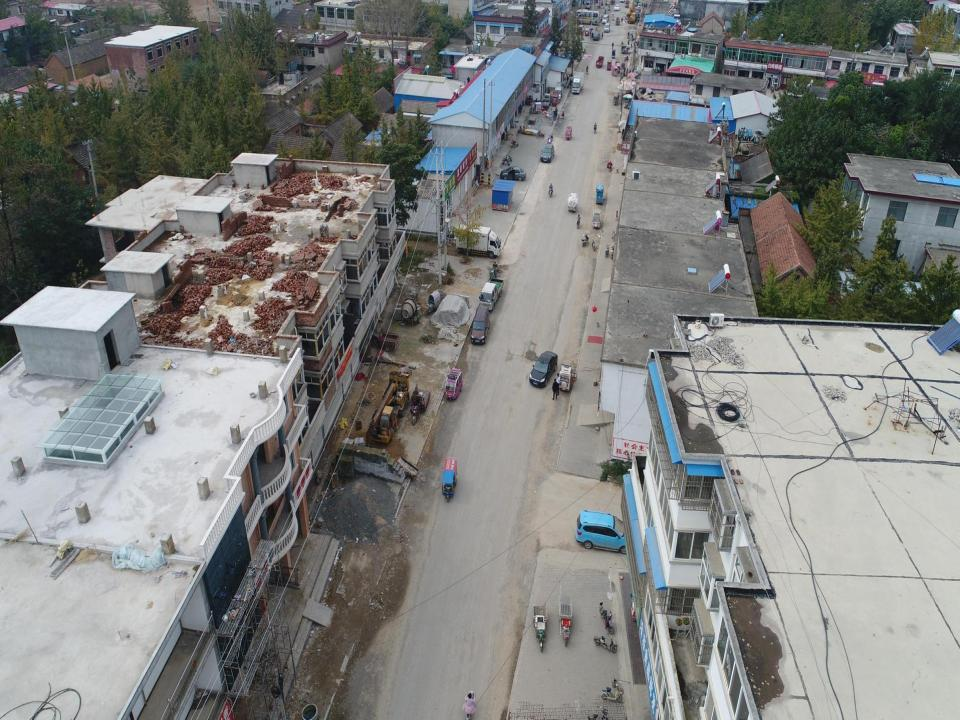bus: (574, 8, 600, 27)
car: (572, 506, 635, 558), (529, 349, 558, 388), (468, 304, 490, 345), (500, 167, 527, 180), (541, 142, 554, 162), (592, 32, 600, 41), (613, 4, 620, 10)
truck: (479, 276, 504, 312), (553, 83, 564, 101), (540, 93, 552, 109), (576, 23, 584, 36)
van: (604, 22, 610, 33), (602, 14, 608, 24), (585, 1, 592, 9)
